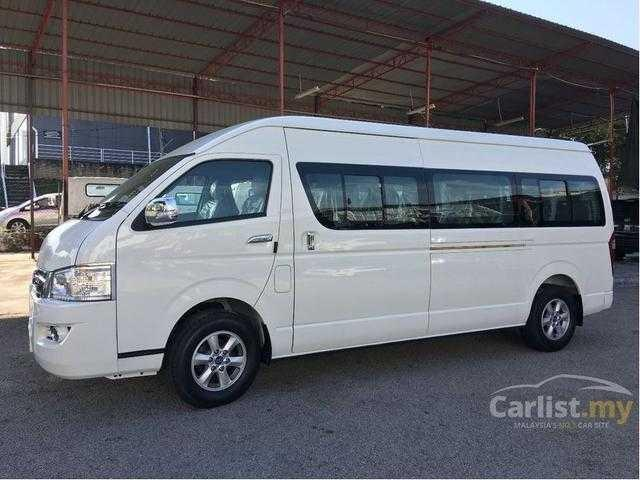car: (23, 117, 614, 407)
